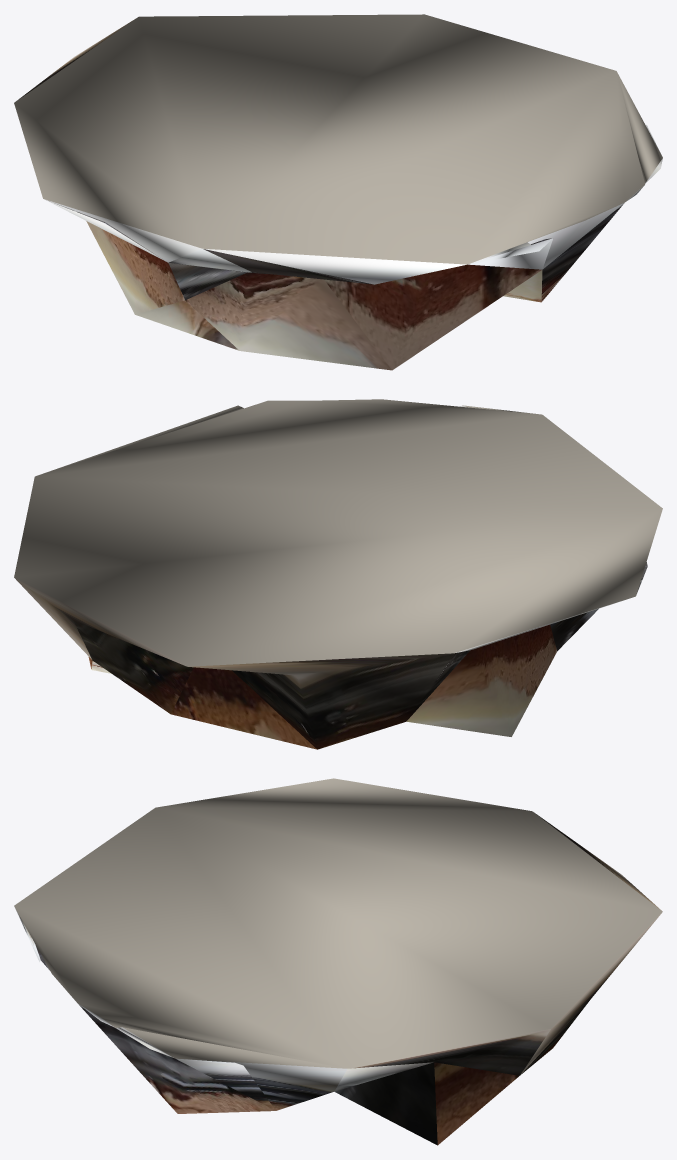
File: cake_96.obj
3 renders of one model, top to bottom at view 1: azimuth 30°, elevation 25°; view 2: azimuth 150°, elevation 25°; view 3: azimuth 270°, elevation 25°, orthographic. The views are drawn at different scales.
Size of the model in its own units: 0.181 by 0.0469 by 0.1825.
1 material, 1 textured.
